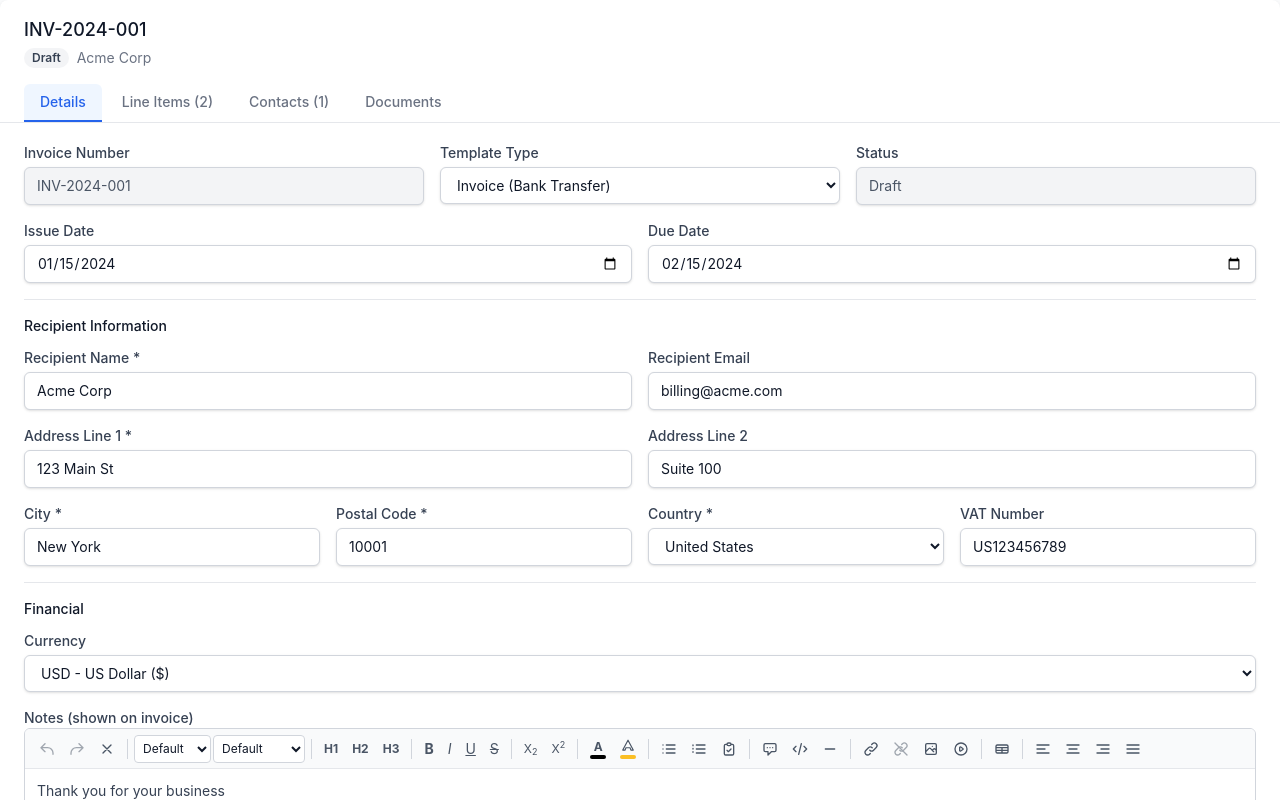
InvoiceDetailPanel › tab navigation › switches to Line Items tab when clicked
Click the button "Line Items (2)" at (167, 103), box [106,84,229,122]
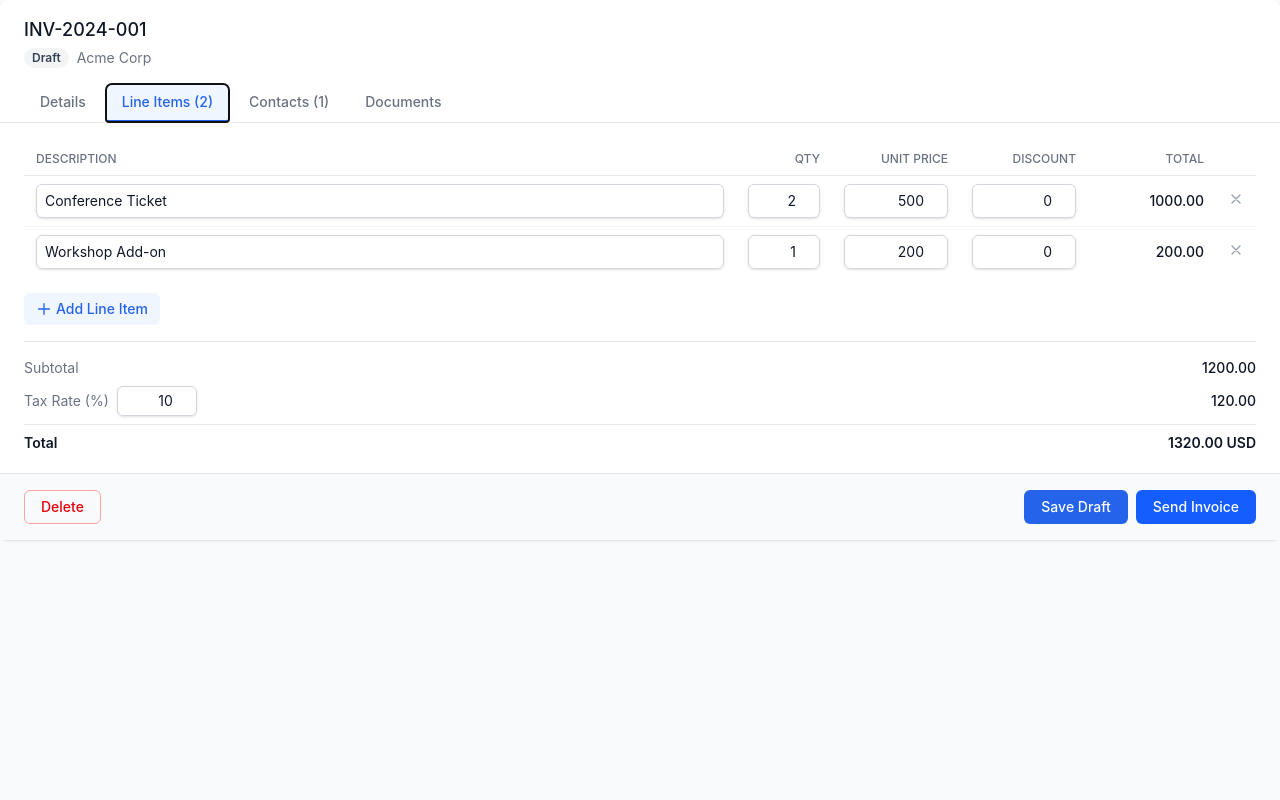
Check: the button "Add Line Item" is shown, box [24,293,160,325]
